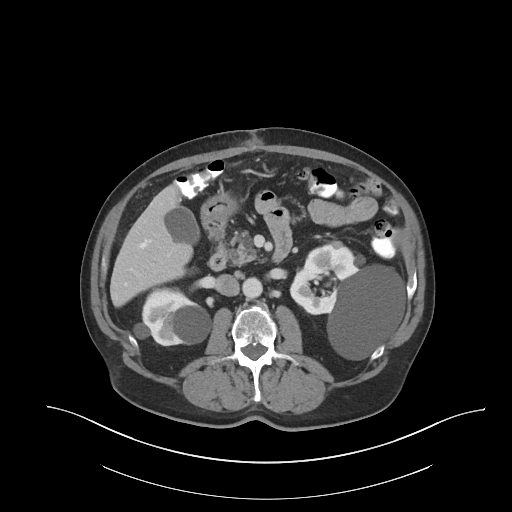Lesion: (328, 239, 345, 252)
